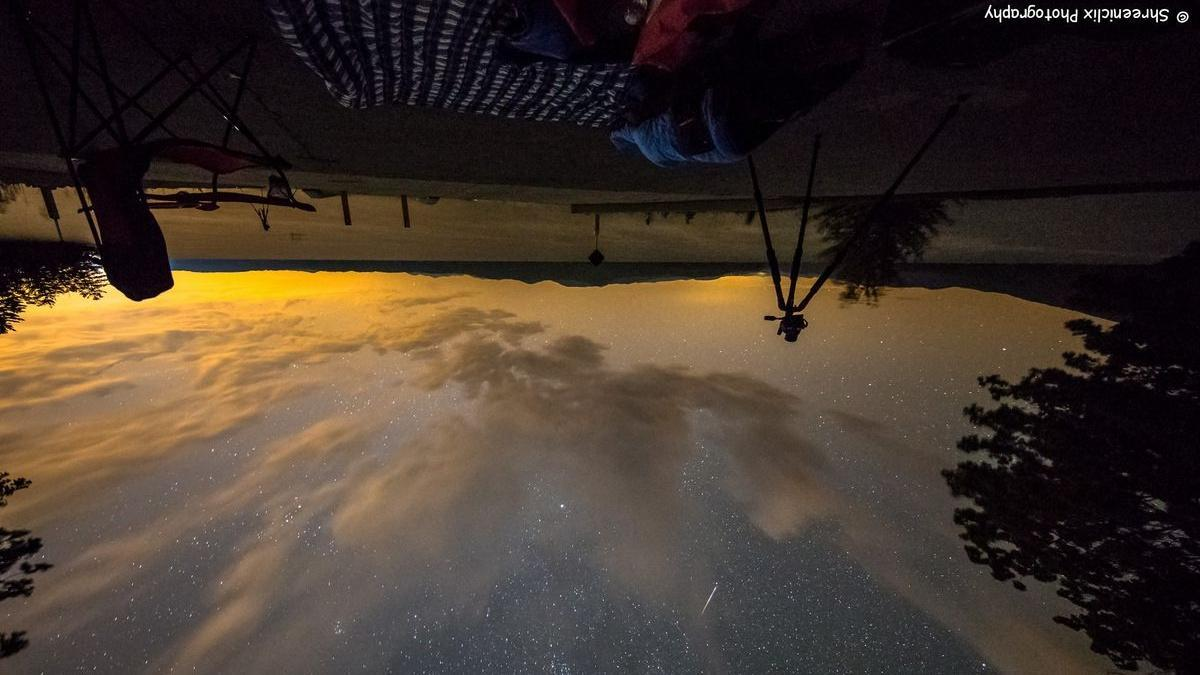meteorite: (678, 581, 737, 642)
